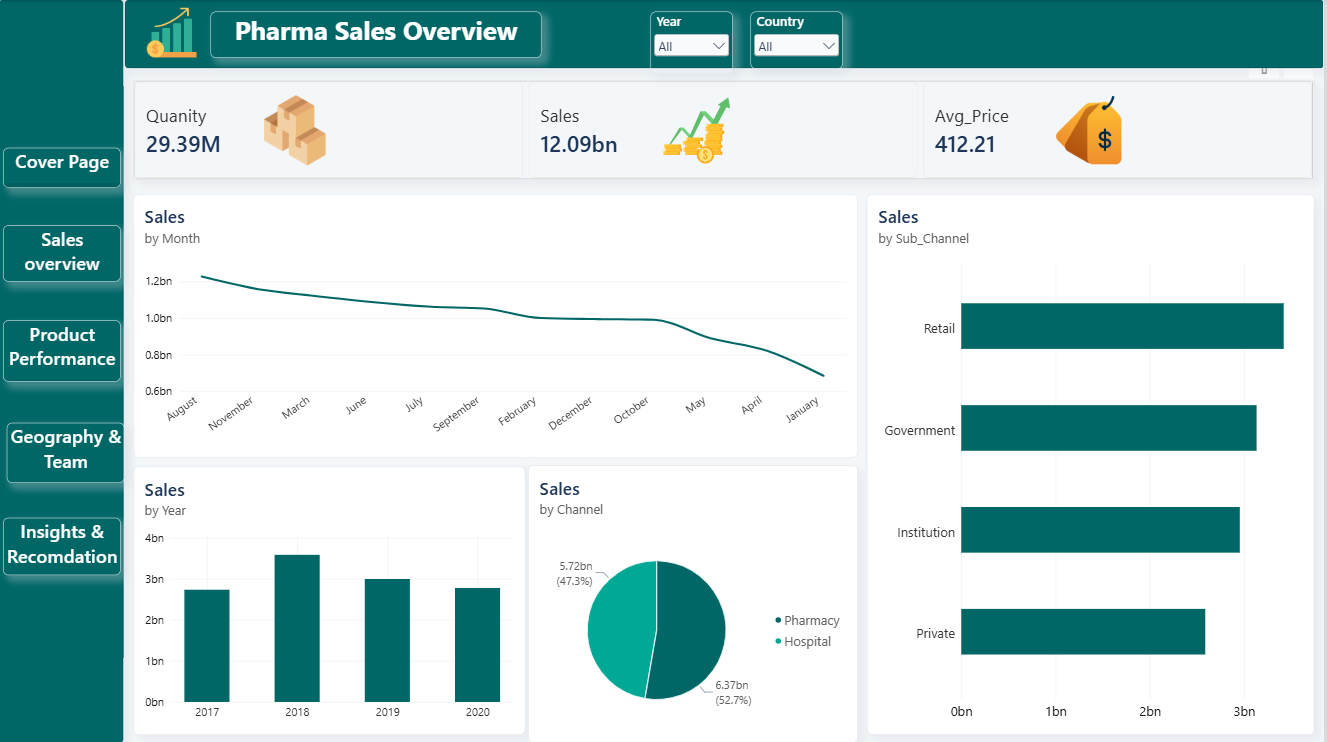

Layout of this report page (visuals, bound fields, positions):
{"tool":"powerbi","page":{"name":"Sales Overview","canvas":[1920,1080],"ordinal":1},"visuals":[{"type":"cardVisual","fields":{"Data":["pharma-data.total_quantity","pharma-data.total_sales","pharma-data.avg_price"]},"box":[195.4,117.6,1710.1,144.8],"z":0},{"type":"lineChart","fields":{"Category":["pharma-data.Month"],"Y":["pharma-data.total_sales"]},"box":[195.4,282.3,1049.6,381.8],"z":1000},{"type":"clusteredBarChart","fields":{"Category":["pharma-data.Sub-channel"],"Y":["Sum(pharma-data.Sales)"]},"box":[1257.7,282.3,647.9,783.6],"z":2000},{"type":"clusteredColumnChart","fields":{"Category":["pharma-data.Year"],"Y":["pharma-data.total_sales"]},"box":[195.4,676.8,568.2,389.1],"z":3000},{"type":"shape","box":[0,0,182.8,1080.4],"z":4000},{"type":"shape","box":[182.8,0,1737.3,101.3],"z":5000},{"type":"slicer","fields":{"Values":["pharma-data.Year"]},"box":[944.6,18.1,119.4,90.5],"z":6000},{"type":"slicer","fields":{"Values":["pharma-data.Country"]},"box":[1089.4,18.1,133.9,83.2],"z":7000},{"type":"textbox","box":[307.6,18.1,479.6,67],"z":8000},{"type":"pieChart","fields":{"Category":["pharma-data.Channel"],"Y":["pharma-data.total_sales"]},"box":[767.3,675,477.8,403.6],"z":9000},{"type":"image","box":[195.4,12.7,112.2,72.4],"z":10000},{"type":"image","box":[367.4,135.7,124.9,108.6],"z":11000},{"type":"image","box":[1523.7,135.7,114,108.6],"z":12000},{"type":"image","box":[959.1,135.7,105,108.6],"z":13000},{"type":"shape","title":"Cover Page","box":[7.2,215.3,170.1,57.9],"z":14000},{"type":"shape","title":"Sales overview","box":[7.2,327.5,170.1,81.4],"z":15000},{"type":"shape","title":"Product Performance","box":[7.2,465.1,170.1,88.7],"z":16000},{"type":"shape","title":"Geography & Team","box":[12.7,613.5,170.1,86.9],"z":17000},{"type":"shape","title":"Insights & Recomdation","box":[7.2,751,170.1,83.2],"z":18000}]}

Visuals, with their boxes on the page's 1920x1080 design canvas (x1, y1, x2, y2). These are canvas units, not pixel positions in the 1327x742 screenshot, which may show the page scaled, cropped or inside an application window:
cardVisual - pharma-data.total_quantity x pharma-data.total_sales: 195, 118, 1906, 262
lineChart - pharma-data.Month x pharma-data.total_sales: 195, 282, 1245, 664
clusteredBarChart - pharma-data.Sub-channel x Sum(pharma-data.Sales): 1258, 282, 1906, 1066
clusteredColumnChart - pharma-data.Year x pharma-data.total_sales: 195, 677, 764, 1066
shape: 0, 0, 183, 1080
shape: 183, 0, 1920, 101
slicer - pharma-data.Year: 945, 18, 1064, 109
slicer - pharma-data.Country: 1089, 18, 1223, 101
textbox: 308, 18, 787, 85
pieChart - pharma-data.Channel x pharma-data.total_sales: 767, 675, 1245, 1079
image: 195, 13, 308, 85
image: 367, 136, 492, 244
image: 1524, 136, 1638, 244
image: 959, 136, 1064, 244
"Cover Page" shape: 7, 215, 177, 273
"Sales overview" shape: 7, 328, 177, 409
"Product Performance" shape: 7, 465, 177, 554
"Geography & Team" shape: 13, 614, 183, 700
"Insights & Recomdation" shape: 7, 751, 177, 834
